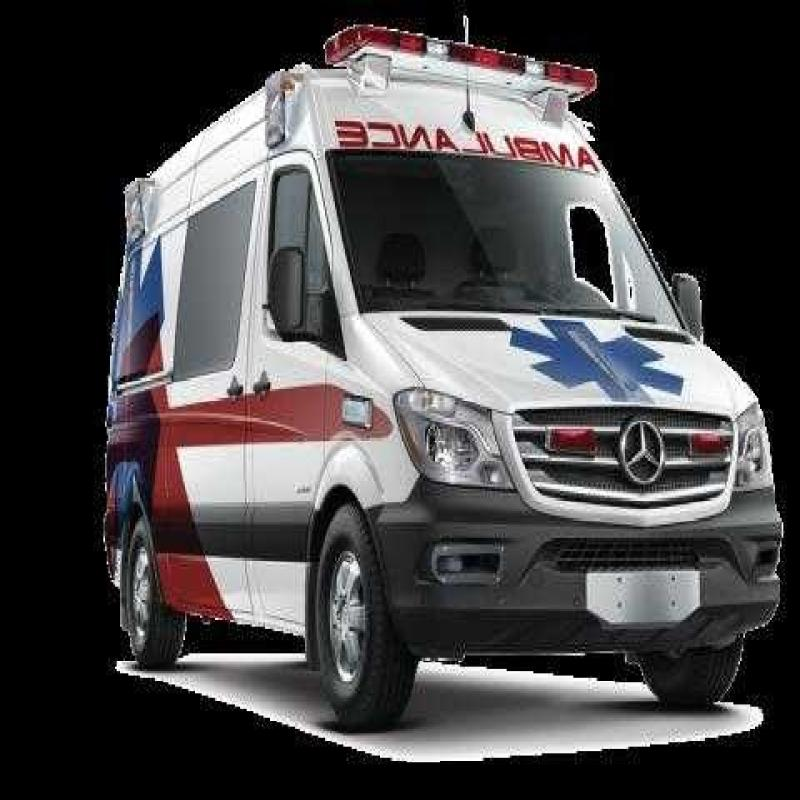AmbulanceSiren: (314, 15, 607, 109)
